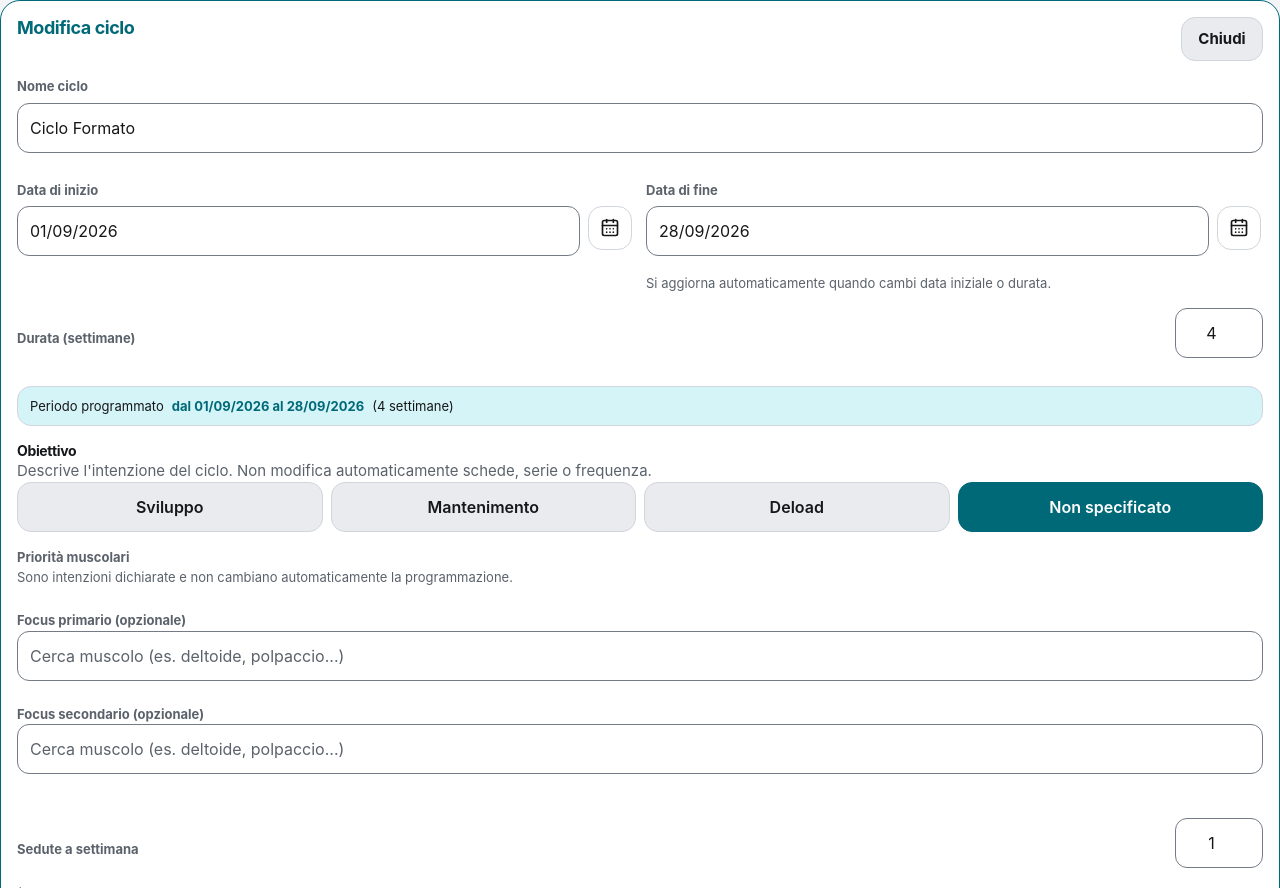
Test: Empirical Challenger: Training Cycles End Date & Two-Way Binding Adversarial Suite (Milestone 2 - Requirement R5) › 6. CycleEditor UI Stress & Interaction Robustness › parses Italian slash date formats with single digits e.g. 1/9/2026
Replace the text in the field labelled "Data di inizio" with "5/5/2026" at (298, 231), box [17,206,580,256]
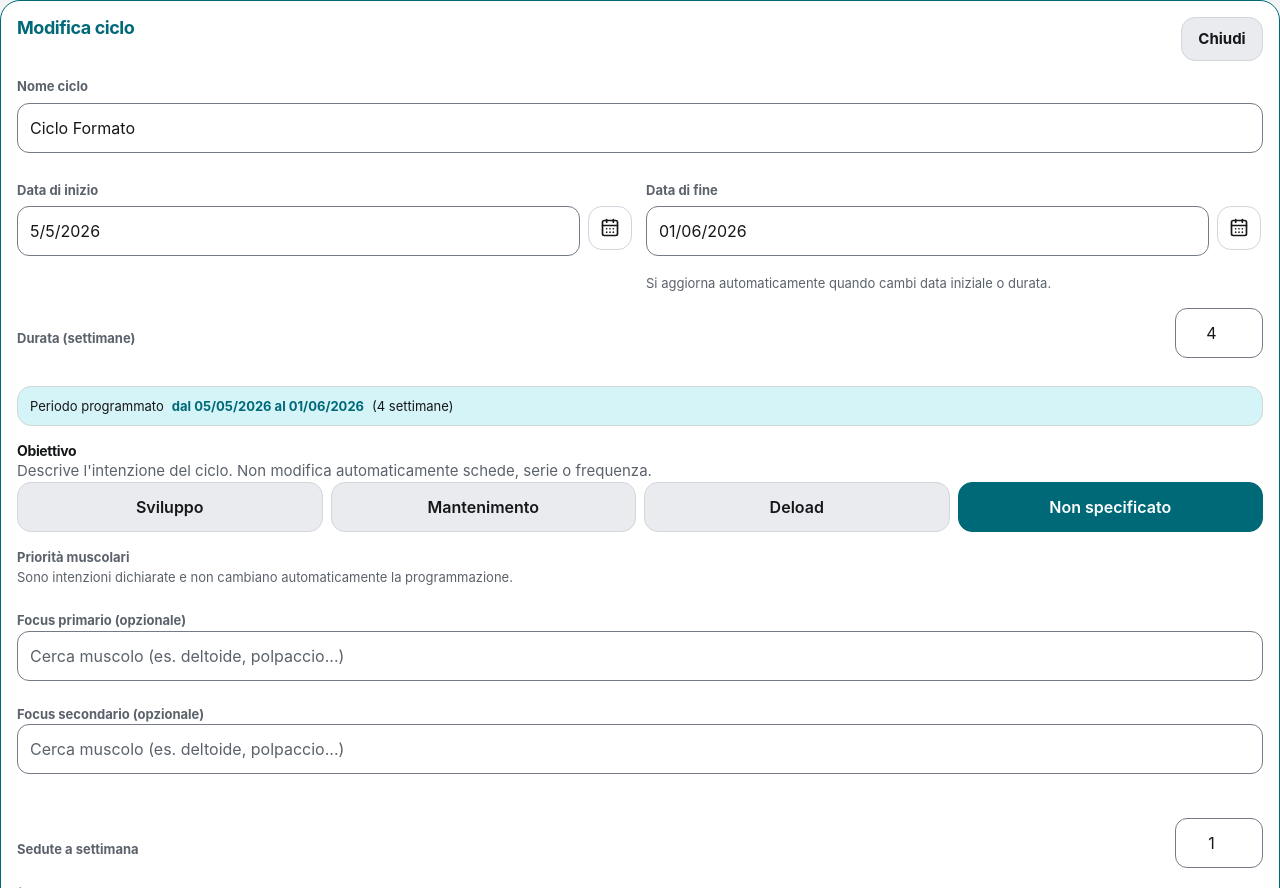
Leave the field labelled "Data di inizio", box [17,206,580,256]
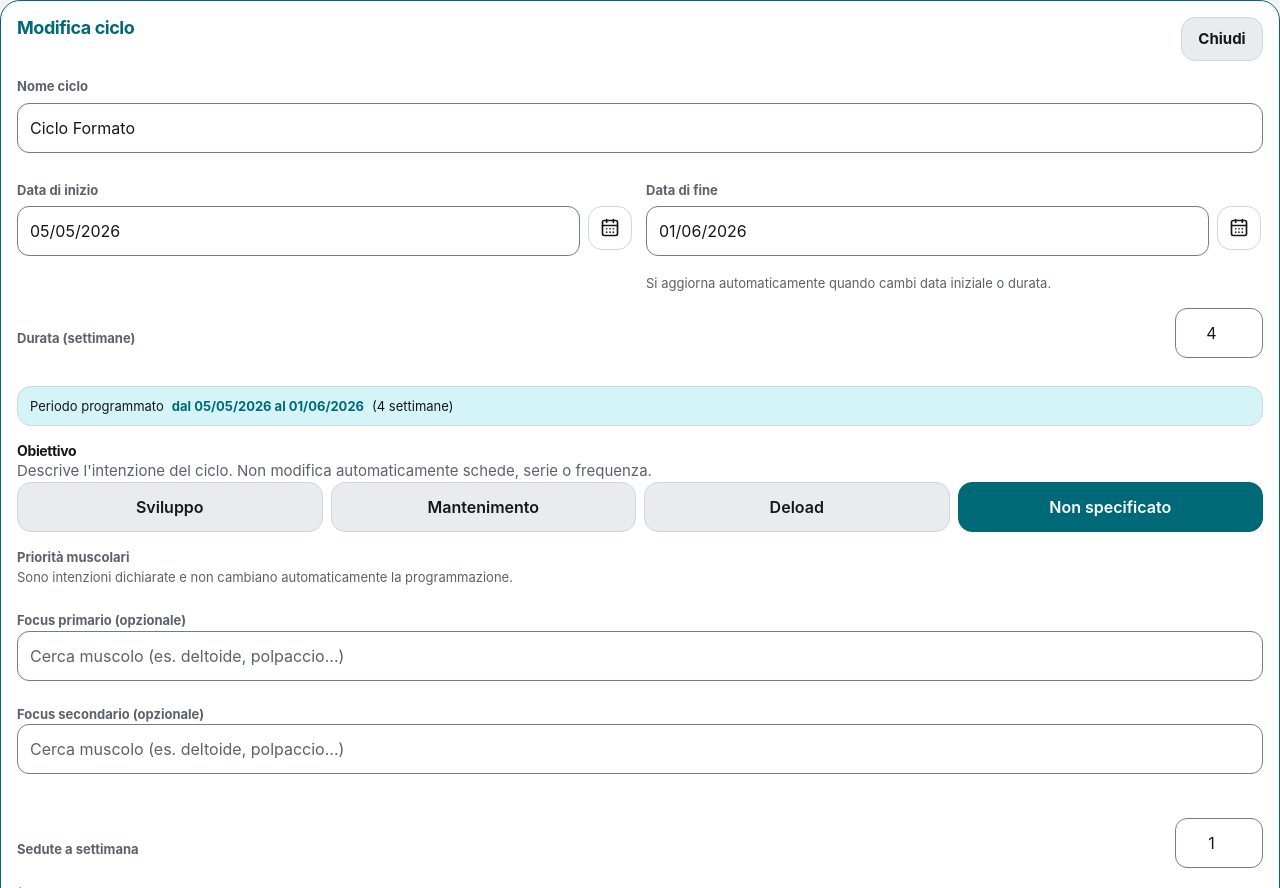
Expected: the field labelled "Data di fine" holds "01/06/2026", [646,206,1209,256]
Expected: the field labelled "Data di inizio" holds "05/05/2026", [17,206,580,256]
